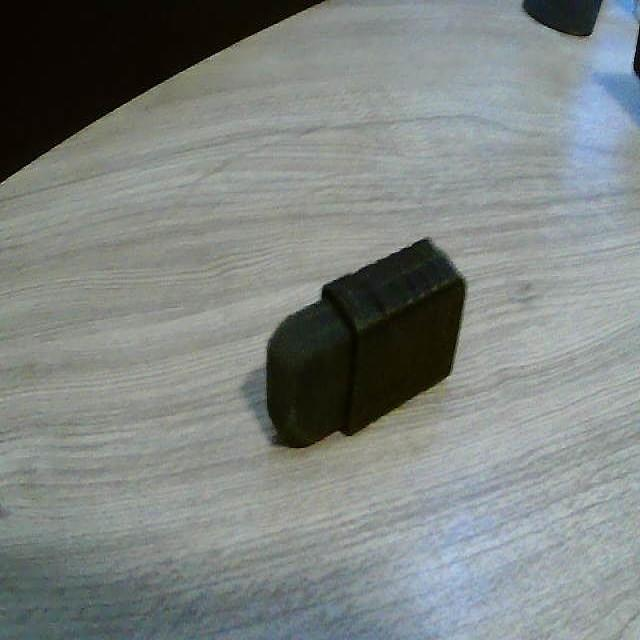borracha: (258, 239, 481, 421)
